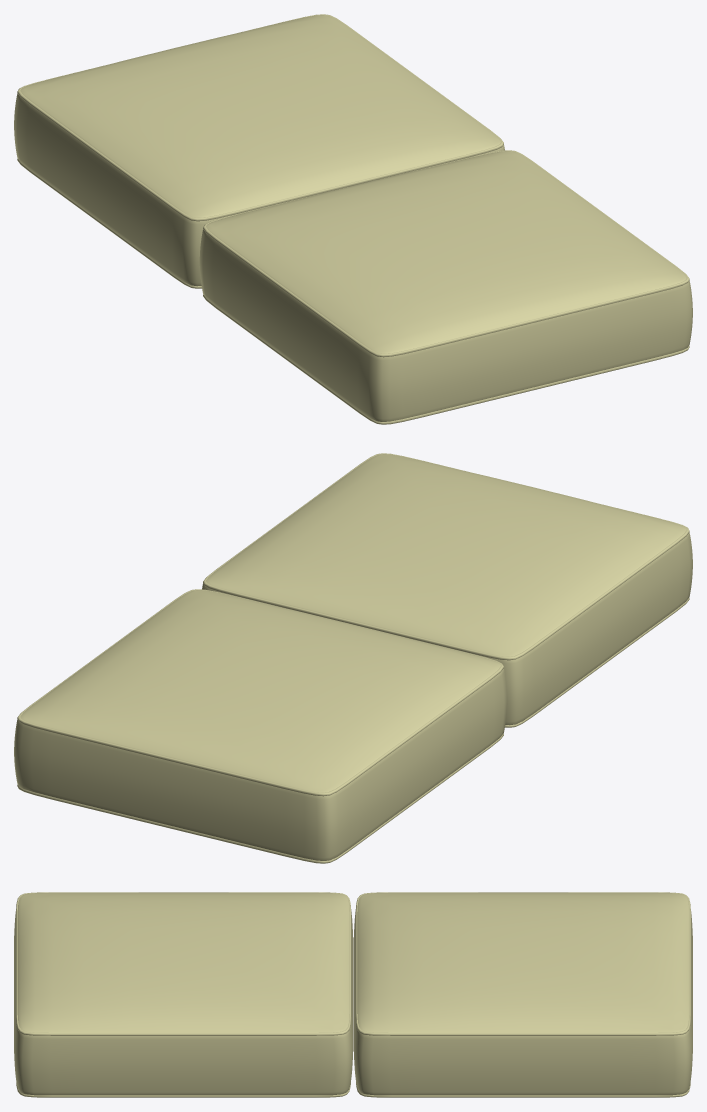
Rendered from sofaCushionSeatDouble.glb.
The picture shows the model from 3 angles, top to bottom: view 1: azimuth 30°, elevation 25°; view 2: azimuth 150°, elevation 25°; view 3: azimuth 270°, elevation 25°; orthographic projection. The views are drawn at different scales.
Visible parts, largest first — view 1: cushion, welting; view 2: cushion, welting; view 3: cushion, welting.
Part boxes in pixels (left/top/right/bottom): cushion: left=14, top=15, right=692, bottom=421; welting: left=17, top=14, right=689, bottom=424; cushion: left=14, top=454, right=692, bottom=860; welting: left=17, top=453, right=689, bottom=863; cushion: left=14, top=892, right=692, bottom=1095; welting: left=16, top=892, right=690, bottom=1097.
Bounding box in the file's own units: 1.31 × 0.3357 × 2.62.
